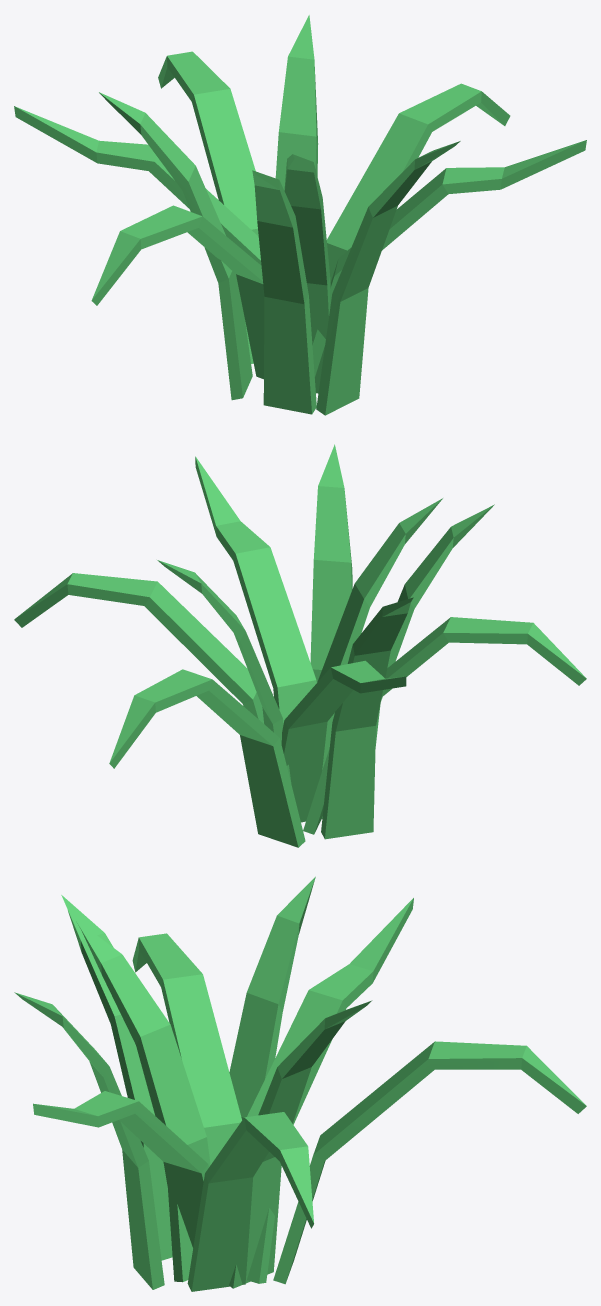
Rendered from grass.fbx.
3 renders of one model, top to bottom at view 1: azimuth 30°, elevation 25°; view 2: azimuth 150°, elevation 25°; view 3: azimuth 270°, elevation 25°, orthographic. The views are drawn at different scales.
Visible parts, largest first — view 1: grass; view 2: grass; view 3: grass.
Part boxes in pixels (box(x1,y1,x2,y2)): grass: box(14, 15, 586, 415); grass: box(14, 444, 586, 847); grass: box(14, 876, 586, 1291).
Size of the model in its own units: 0.7795 by 0.4381 by 0.7167.
